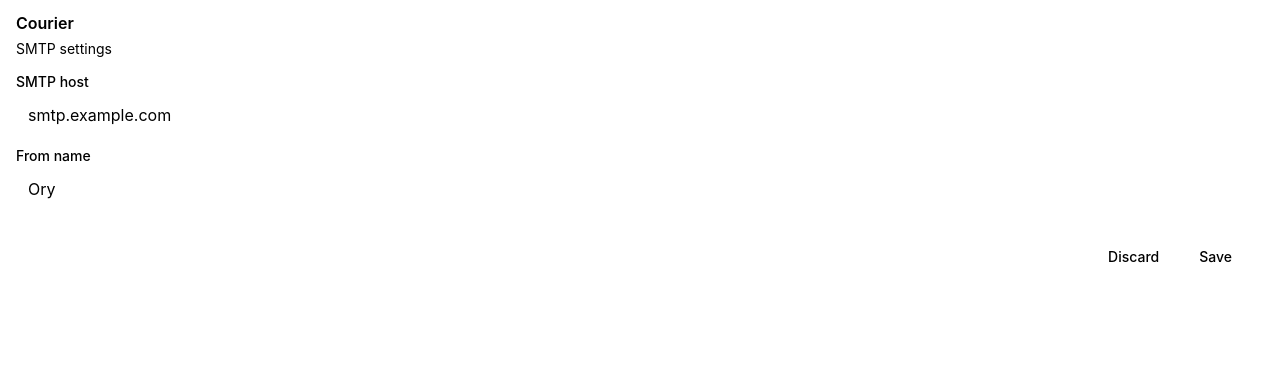
SettingsForm (FE-03) › shows a destructive failed banner (rolled back) on a non-422 error
This screenshot has width=1265, height=366.
Type "Z" into the field labelled "From name". click: {"x": 632, "y": 189}
box: [16,171,1248,207]
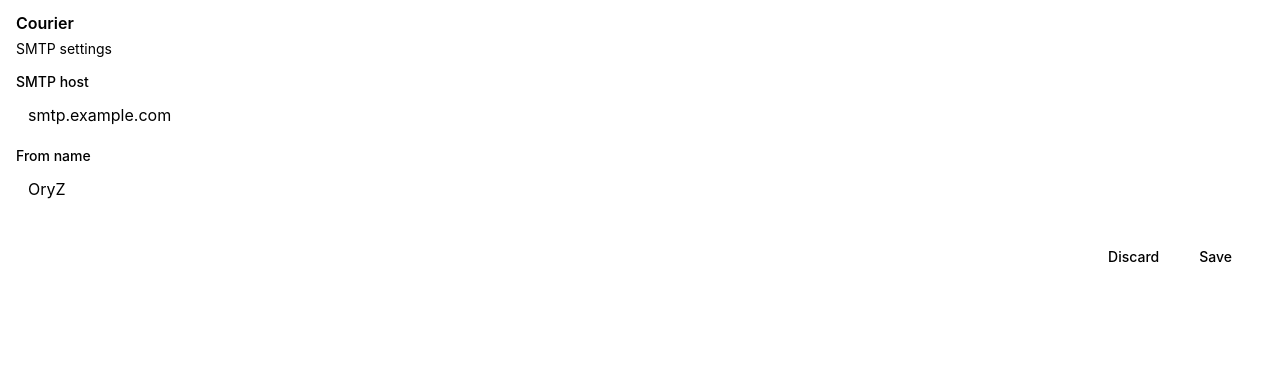
Click the button "Save". click: {"x": 1216, "y": 257}
box: [1183,239,1248,275]
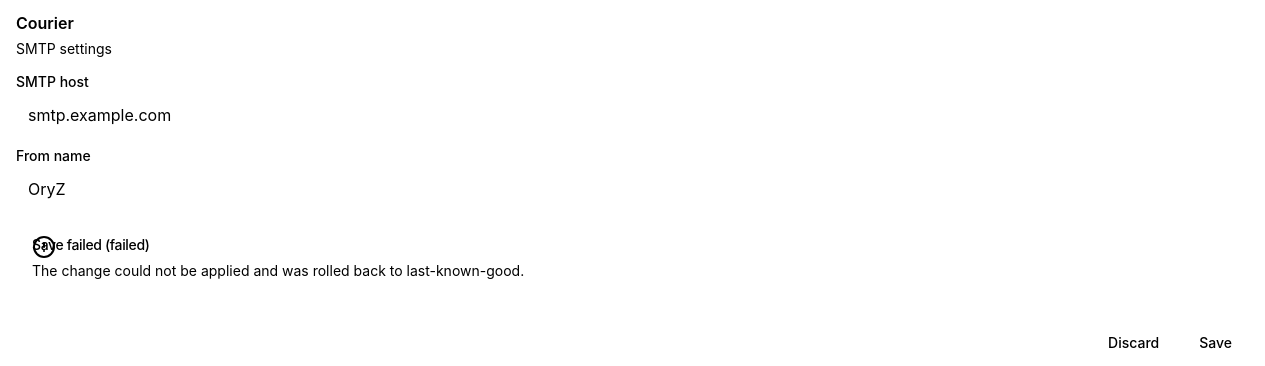
expect the message shows "failed": met, box [110,236,145,253]
expect the message shows "last-known-good": met, box [32,262,524,279]
